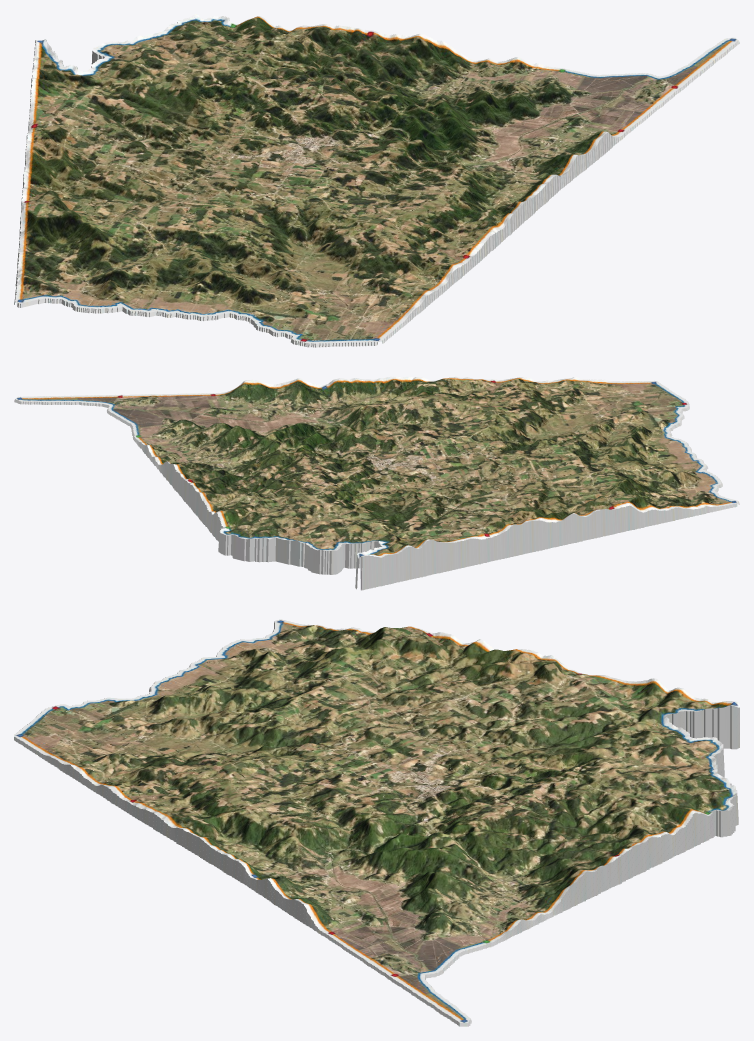
3 renders of one model, top to bottom at view 1: azimuth 30°, elevation 25°; view 2: azimuth 150°, elevation 25°; view 3: azimuth 270°, elevation 25°, orthographic. The views are drawn at different scales.
Size of the model in its own units: 0.9998 by 0.0512 by 0.7606.
Materials: 1 (1 with a texture image).
